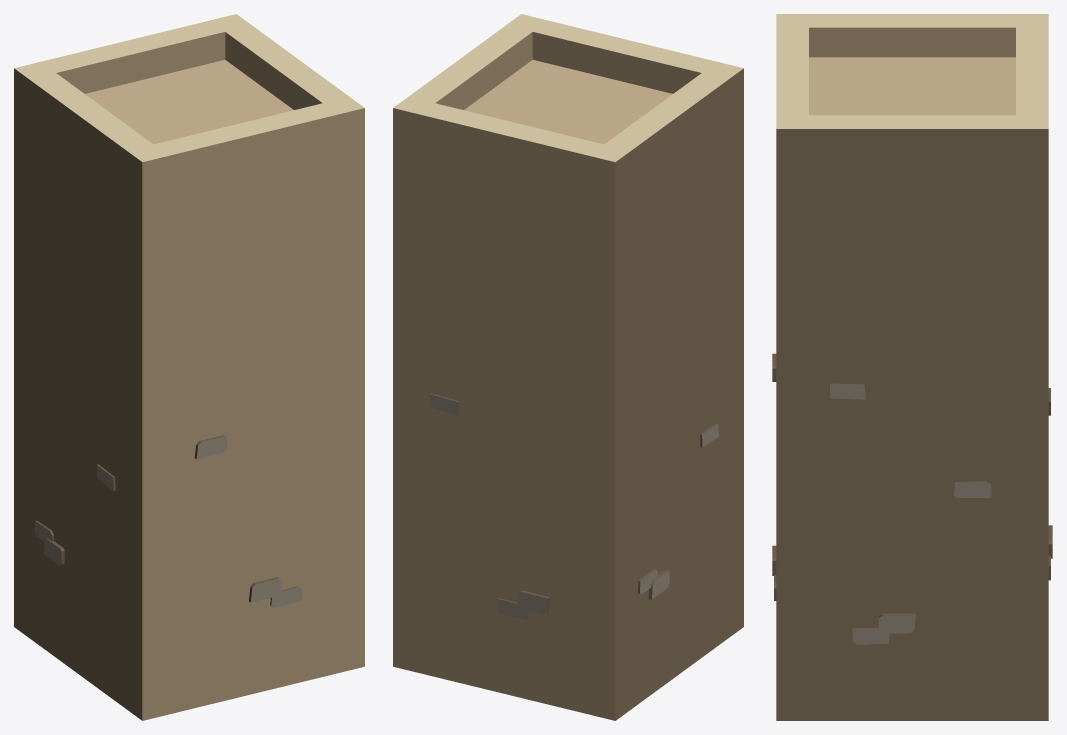
Rendered from TB_D_Bd_Tower_A.FBX.
3 renders of one model, left to right at view 1: azimuth 30°, elevation 25°; view 2: azimuth 150°, elevation 25°; view 3: azimuth 270°, elevation 25°, orthographic. The views are drawn at different scales.
Visible parts, largest first — view 1: TB_D_Bd_Tower_A; view 2: TB_D_Bd_Tower_A; view 3: TB_D_Bd_Tower_A.
Boxes of the visible parts, <box> form: TB_D_Bd_Tower_A: <box>14,14,364,720</box>; TB_D_Bd_Tower_A: <box>393,14,743,720</box>; TB_D_Bd_Tower_A: <box>772,14,1052,720</box>.
Size of the model in its own units: 2.57 by 6 by 2.57.
